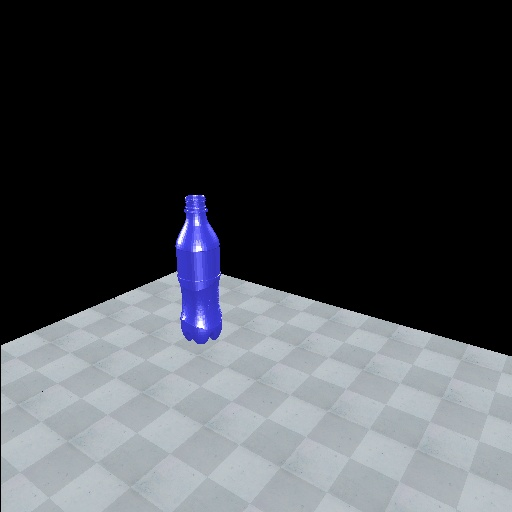bottle: (174, 190, 224, 345)
